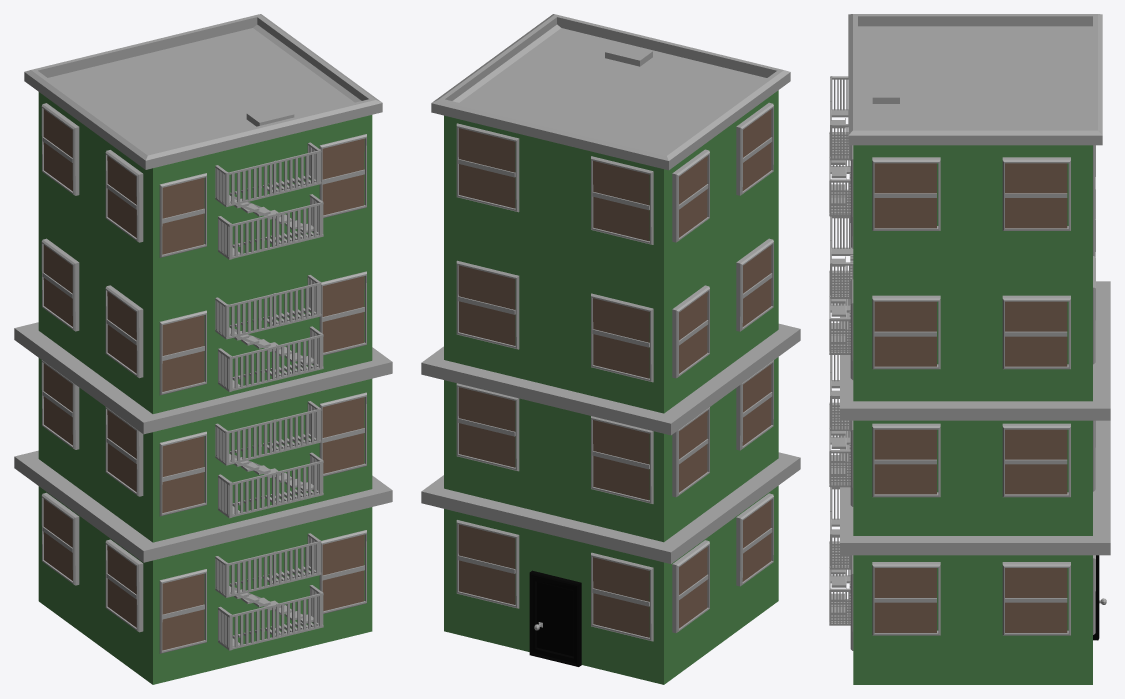
Rendered from IndustryApartments2.fbx.
3 renders of one model, left to right at view 1: azimuth 30°, elevation 25°; view 2: azimuth 150°, elevation 25°; view 3: azimuth 270°, elevation 25°, orthographic. The views are drawn at different scales.
Visible parts, largest first — view 1: pCube267, pCube237, pCube239, pCube236, pCube268, polySurface442, polySurface420, polySurface347, polySurface437, polySurface421, polySurface438, polySurface423 (+18 smaller); view 2: pCube267, pCube237, pCube239, pCube268, pCube236, polySurface430, polySurface433, polySurface434, polySurface431, polySurface418, polySurface436, polySurface435 (+11 smaller); view 3: pCube267, pCube237, pCube239, pCube236, pCube268, polySurface426, polySurface449, polySurface427, polySurface448, polySurface425, polySurface450, polySurface404 (+11 smaller).
Boxes of the visible parts, box(x1,y1,x2,y2) form: pCube267: box(38, 92, 372, 413); pCube237: box(38, 358, 372, 684); pCube239: box(24, 14, 382, 169); pCube236: box(14, 450, 392, 562); pCube268: box(14, 322, 392, 434); polySurface442: box(218, 326, 323, 391); polySurface420: box(218, 452, 323, 518); polySurface347: box(218, 585, 323, 650); polySurface437: box(218, 194, 323, 259); polySurface421: box(159, 431, 206, 516); polySurface438: box(159, 173, 206, 257); polySurface423: box(159, 569, 206, 653); pCube267: box(444, 90, 778, 413); pCube237: box(444, 357, 778, 684); pCube239: box(431, 14, 790, 170); pCube268: box(421, 323, 800, 435); pCube236: box(421, 452, 800, 563); polySurface430: box(456, 520, 519, 608); polySurface433: box(456, 260, 519, 349); polySurface434: box(456, 123, 519, 212); polySurface431: box(456, 383, 519, 471); polySurface418: box(591, 552, 653, 641); polySurface436: box(591, 293, 653, 382); polySurface435: box(591, 156, 653, 244); pCube267: box(853, 145, 1092, 401); pCube237: box(853, 420, 1092, 684); pCube239: box(848, 14, 1102, 145); pCube236: box(840, 420, 1110, 555); pCube268: box(840, 281, 1110, 420); polySurface426: box(1002, 423, 1070, 497); polySurface449: box(1002, 295, 1070, 369); polySurface427: box(872, 423, 940, 497); polySurface448: box(872, 295, 940, 369); polySurface425: box(1002, 562, 1070, 635); polySurface450: box(1002, 157, 1070, 230); polySurface404: box(872, 562, 940, 635).
Size of the model in its own units: 56.22 by 115 by 52.55.
